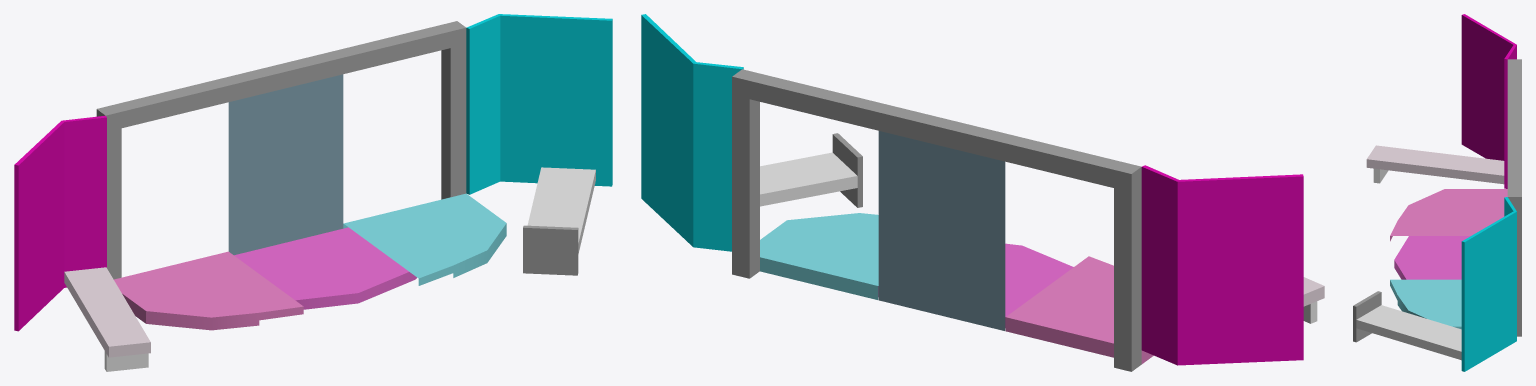
File: Greybox.fbx
The picture shows the model from 3 angles, left to right: view 1: azimuth 30°, elevation 25°; view 2: azimuth 150°, elevation 25°; view 3: azimuth 270°, elevation 25°; orthographic projection. The views are drawn at different scales.
Parts seen in each view (by area): view 1: rWall, poster, rearFrame, lWall, lPlatform, rPlatform, basePlatform, rBed, lBed; view 2: lWall, poster, rearFrame, rWall, rPlatform, lPlatform, rBed, basePlatform, lBed; view 3: rWall, lWall, lPlatform, rBed, lBed, rearFrame, basePlatform, rPlatform.
Boxes of the visible parts, box(x1,y1,x2,y2) form: rWall: box(466, 14, 612, 194); poster: box(228, 74, 343, 255); rearFrame: box(96, 21, 466, 279); lWall: box(14, 115, 106, 331); lPlatform: box(114, 251, 303, 330); rPlatform: box(343, 193, 506, 285); basePlatform: box(234, 227, 416, 309); rBed: box(523, 167, 595, 275); lBed: box(64, 267, 150, 371); lWall: box(1141, 165, 1303, 365); poster: box(878, 131, 1005, 330); rearFrame: box(732, 69, 1141, 371); rWall: box(641, 14, 743, 251); rPlatform: box(760, 213, 878, 299); lPlatform: box(1005, 256, 1153, 364); rBed: box(760, 133, 862, 207); basePlatform: box(878, 243, 1073, 327); lBed: box(1303, 277, 1324, 323); rWall: box(1461, 197, 1516, 371); lWall: box(1461, 14, 1516, 188); lPlatform: box(1390, 189, 1507, 241); rBed: box(1353, 291, 1461, 360); lBed: box(1366, 145, 1504, 184); rearFrame: box(1507, 59, 1521, 336); basePlatform: box(1394, 236, 1470, 279); rPlatform: box(1390, 279, 1461, 329).
Size of the model in its own units: 755 by 215 by 236.
